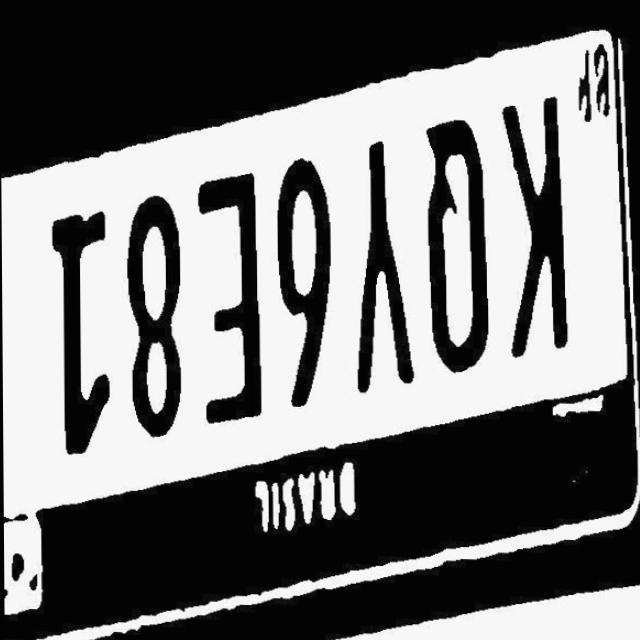1: (38, 170, 111, 460)
6: (276, 138, 349, 423)
8: (113, 155, 187, 445)
e: (190, 142, 277, 430)
k: (500, 76, 582, 384)
q: (423, 106, 509, 411)
y: (355, 124, 416, 430)
